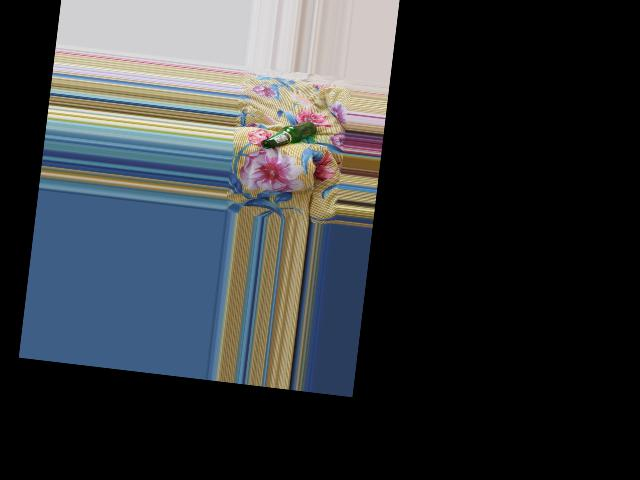beer: (261, 116, 316, 154)
